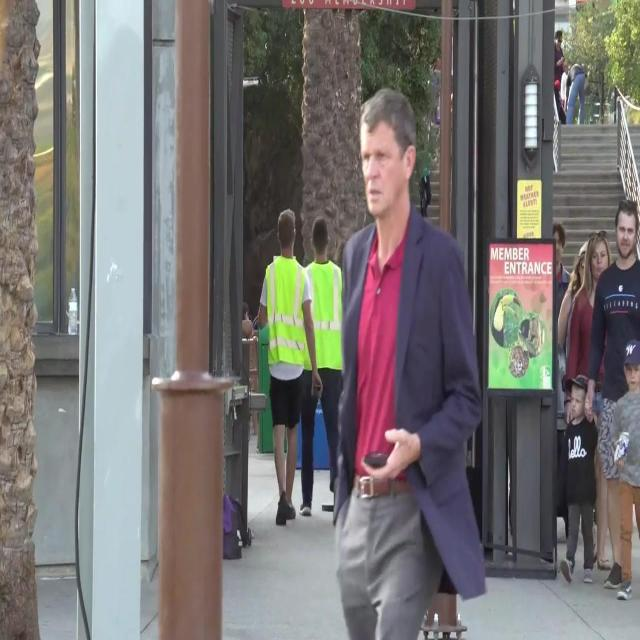Vest: (264, 256, 306, 365), (305, 257, 343, 371)
